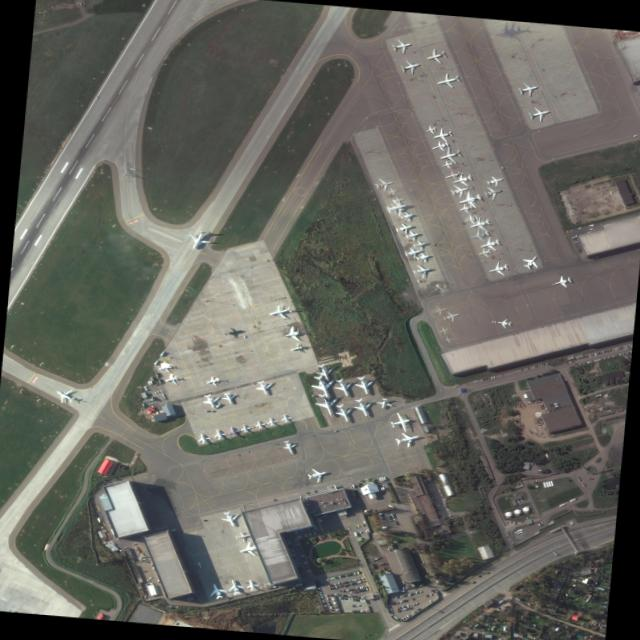large-vehicle: (558, 500, 568, 506), (569, 496, 578, 501), (517, 530, 523, 533), (516, 527, 522, 530)
plane: (312, 390, 343, 418), (182, 225, 214, 252), (307, 371, 339, 398), (387, 409, 416, 432), (454, 188, 483, 210), (393, 428, 423, 448), (352, 373, 377, 396), (332, 401, 357, 424), (436, 144, 463, 165), (351, 395, 375, 418), (331, 375, 356, 397), (384, 196, 411, 216), (434, 70, 462, 89), (519, 250, 544, 271), (52, 384, 77, 405), (423, 45, 449, 65), (266, 301, 293, 320), (313, 361, 337, 382), (398, 56, 424, 75), (527, 103, 552, 122), (390, 35, 415, 54), (219, 508, 242, 528), (252, 377, 276, 396), (410, 261, 435, 279), (467, 225, 492, 243), (467, 214, 492, 232), (200, 391, 223, 410), (486, 259, 510, 277), (478, 234, 502, 252), (448, 181, 472, 199), (450, 170, 474, 188), (516, 79, 540, 97), (206, 580, 228, 599), (373, 174, 396, 192), (305, 465, 328, 483), (236, 539, 259, 557), (481, 183, 504, 201), (225, 576, 246, 595), (431, 126, 454, 143), (281, 324, 302, 342), (219, 389, 240, 405), (551, 273, 573, 288), (223, 324, 244, 339), (116, 159, 135, 175), (280, 438, 299, 454), (442, 167, 462, 182), (430, 138, 450, 153), (441, 308, 462, 322), (485, 173, 506, 187), (430, 302, 450, 316), (385, 201, 404, 215), (403, 245, 423, 258), (394, 221, 414, 234), (195, 430, 212, 444), (289, 340, 307, 353), (375, 396, 393, 409), (163, 372, 180, 385), (476, 245, 493, 258), (234, 529, 251, 542), (457, 201, 474, 214), (463, 212, 480, 225), (156, 360, 172, 373), (225, 424, 241, 437), (415, 250, 432, 262), (204, 374, 221, 386), (412, 238, 428, 250), (404, 228, 420, 240), (399, 209, 415, 221), (211, 427, 227, 439), (391, 193, 406, 205), (497, 316, 511, 328), (245, 578, 259, 590), (440, 158, 454, 169), (386, 185, 399, 196), (424, 123, 437, 134), (438, 324, 451, 334), (238, 422, 251, 432), (265, 415, 278, 425), (279, 412, 292, 422), (253, 418, 265, 428), (444, 334, 453, 342)
small-vehicle: (153, 359, 158, 364), (159, 350, 164, 355), (380, 476, 384, 480), (147, 379, 150, 384), (149, 379, 152, 384), (388, 503, 393, 506), (407, 592, 411, 595), (554, 552, 558, 555), (411, 610, 415, 613), (140, 551, 144, 554), (107, 544, 111, 547), (106, 543, 110, 546), (105, 542, 109, 545), (633, 133, 637, 136), (146, 397, 149, 401), (148, 396, 151, 400), (383, 475, 386, 479), (380, 485, 383, 489), (352, 483, 355, 487), (552, 550, 557, 552), (324, 607, 329, 609), (141, 557, 146, 559), (363, 598, 366, 601), (362, 595, 365, 598), (360, 595, 363, 598), (402, 585, 405, 588), (402, 579, 405, 582), (395, 600, 398, 603), (399, 594, 402, 597), (405, 606, 408, 609), (338, 592, 341, 595), (337, 592, 340, 595), (353, 571, 356, 574), (352, 578, 355, 581), (353, 581, 356, 584), (346, 588, 349, 591), (359, 585, 362, 588), (338, 574, 341, 577), (394, 615, 397, 618), (395, 616, 398, 619), (429, 599, 432, 602), (406, 614, 409, 617), (337, 581, 340, 584), (603, 349, 606, 352), (584, 354, 587, 357), (545, 361, 548, 364), (532, 364, 535, 367), (520, 367, 523, 370), (615, 346, 618, 349), (628, 343, 631, 346), (621, 345, 624, 348), (619, 345, 622, 348), (612, 347, 615, 350), (482, 377, 485, 380), (109, 545, 112, 548), (159, 409, 162, 412), (535, 462, 538, 465), (174, 621, 177, 624), (144, 398, 147, 401), (155, 410, 158, 413), (328, 592, 331, 595), (381, 485, 384, 488), (286, 538, 289, 541), (363, 519, 366, 522), (580, 543, 584, 545), (401, 589, 405, 591), (331, 596, 335, 598), (331, 597, 335, 599), (331, 575, 333, 579), (323, 604, 327, 606), (321, 598, 325, 600), (579, 362, 583, 364), (575, 363, 579, 365), (573, 362, 577, 364), (548, 361, 550, 365), (501, 372, 503, 376), (603, 356, 607, 358), (597, 357, 601, 359), (594, 358, 598, 360), (586, 360, 590, 362), (614, 346, 616, 350), (624, 347, 628, 349), (110, 547, 114, 549), (437, 513, 441, 515), (436, 510, 440, 512), (432, 497, 436, 499), (429, 491, 433, 493), (287, 542, 291, 544), (577, 226, 581, 228), (96, 94, 98, 98), (150, 396, 152, 400), (287, 541, 291, 543), (286, 540, 290, 542), (333, 600, 337, 602), (325, 608, 329, 610), (324, 605, 328, 607), (322, 601, 326, 603), (380, 512, 384, 514), (379, 476, 381, 480), (469, 530, 473, 532), (445, 506, 449, 508), (443, 500, 447, 502), (443, 499, 447, 501), (394, 519, 398, 521), (395, 522, 399, 524), (146, 578, 150, 580), (152, 565, 156, 567), (404, 598, 406, 601), (355, 608, 357, 611), (354, 603, 356, 606), (352, 603, 354, 606), (365, 608, 367, 611), (362, 608, 364, 611), (356, 603, 358, 606), (351, 597, 353, 600), (349, 597, 351, 600), (403, 598, 405, 601), (396, 605, 398, 608), (347, 593, 349, 596), (398, 605, 400, 608), (401, 605, 404, 607), (402, 607, 404, 610), (407, 603, 409, 606), (401, 599, 403, 602), (399, 599, 401, 602), (402, 593, 404, 596), (403, 604, 405, 607), (399, 608, 401, 611), (400, 605, 402, 608), (349, 593, 351, 596), (342, 588, 344, 591), (537, 463, 539, 466), (356, 594, 358, 597), (355, 594, 357, 597), (353, 594, 355, 597), (356, 586, 358, 589), (363, 578, 365, 581), (355, 581, 358, 583), (331, 583, 333, 586), (339, 595, 341, 598), (345, 588, 347, 591), (325, 593, 327, 596), (361, 585, 363, 588), (365, 584, 367, 587), (366, 587, 368, 590), (357, 580, 359, 583), (361, 576, 364, 578), (357, 570, 359, 573), (326, 577, 328, 580), (336, 607, 339, 609), (326, 596, 329, 598), (393, 614, 396, 616), (400, 617, 402, 620), (550, 547, 553, 549), (471, 580, 474, 582), (430, 592, 432, 595), (426, 593, 428, 596), (419, 589, 421, 592), (418, 590, 420, 593), (415, 590, 417, 593), (415, 601, 417, 604), (410, 602, 412, 605), (413, 610, 416, 612), (407, 613, 410, 615), (405, 614, 407, 617), (402, 616, 404, 619), (335, 582, 337, 585), (339, 581, 341, 584), (607, 348, 609, 351), (600, 350, 602, 353), (596, 351, 598, 354), (592, 352, 594, 355), (590, 353, 593, 355), (569, 365, 572, 367), (540, 362, 542, 365), (535, 364, 538, 366), (527, 366, 529, 369), (493, 374, 495, 377), (608, 348, 610, 351), (616, 353, 619, 355), (612, 354, 615, 356), (608, 355, 611, 357), (600, 357, 603, 359), (584, 361, 587, 363), (590, 359, 593, 361), (589, 353, 591, 356), (594, 352, 596, 355), (601, 350, 604, 352), (625, 344, 627, 347), (623, 344, 625, 347), (618, 346, 620, 349), (490, 375, 493, 377), (486, 376, 488, 379), (112, 548, 115, 550), (110, 546, 113, 548), (161, 408, 163, 411), (431, 494, 434, 496), (430, 492, 433, 494), (531, 462, 534, 464), (140, 553, 143, 555), (480, 377, 482, 380), (265, 258, 268, 260), (417, 278, 419, 281), (627, 344, 629, 347), (341, 580, 343, 583), (346, 582, 348, 585), (345, 583, 347, 586), (340, 574, 342, 577), (334, 585, 336, 588), (332, 585, 334, 588), (348, 572, 350, 575), (349, 572, 351, 575), (351, 572, 354, 574), (314, 525, 316, 528), (308, 532, 311, 534), (304, 533, 307, 535), (299, 534, 301, 537), (307, 569, 310, 571), (304, 560, 307, 562), (348, 582, 350, 585), (317, 586, 320, 588), (318, 589, 321, 591), (343, 580, 345, 583), (335, 585, 337, 588), (335, 606, 338, 608), (321, 597, 324, 599), (320, 595, 323, 597), (320, 594, 323, 596), (319, 592, 322, 594), (294, 537, 297, 539), (296, 529, 298, 532), (392, 513, 395, 515), (379, 511, 382, 513), (381, 516, 384, 518), (449, 513, 452, 515), (153, 567, 156, 569), (292, 552, 295, 554), (295, 541, 298, 543), (153, 568, 156, 570), (393, 517, 396, 519), (305, 491, 308, 493), (357, 524, 359, 527), (367, 528, 369, 531), (365, 528, 367, 531), (359, 530, 362, 532), (403, 594, 405, 596), (352, 609, 354, 611), (354, 609, 356, 611), (358, 609, 360, 611), (360, 609, 362, 611), (360, 598, 362, 600), (404, 607, 406, 609), (397, 600, 399, 602), (388, 607, 392, 608), (400, 608, 402, 610), (397, 609, 399, 611), (341, 593, 343, 595), (336, 592, 338, 594), (358, 586, 360, 588), (358, 577, 360, 579), (349, 579, 351, 581), (350, 582, 352, 584), (329, 584, 331, 586), (333, 583, 335, 585), (334, 583, 336, 585), (357, 589, 359, 591), (363, 585, 365, 587), (359, 580, 361, 582), (354, 578, 356, 580), (333, 576, 335, 578), (330, 577, 332, 579), (334, 592, 336, 594), (321, 600, 325, 601), (424, 594, 426, 596), (414, 602, 416, 604), (412, 602, 414, 604), (598, 351, 600, 353), (587, 354, 589, 356), (543, 362, 545, 364), (605, 349, 607, 351), (622, 352, 626, 353), (610, 348, 612, 350), (488, 376, 490, 378), (314, 489, 316, 491), (438, 515, 442, 516), (437, 512, 441, 513), (530, 462, 532, 464), (306, 568, 310, 569), (346, 573, 348, 575), (351, 579, 353, 581), (350, 579, 352, 581), (318, 519, 322, 520), (314, 531, 316, 533), (297, 535, 299, 537), (300, 554, 304, 555), (337, 575, 339, 577), (333, 602, 337, 603), (330, 605, 332, 607), (328, 600, 330, 602), (322, 603, 326, 604), (318, 591, 322, 592), (290, 550, 294, 551), (392, 516, 396, 517), (392, 515, 396, 516), (446, 508, 450, 509), (444, 504, 448, 505), (444, 502, 448, 503), (390, 512, 394, 513), (296, 564, 300, 565), (387, 604, 390, 605), (405, 593, 406, 596), (364, 608, 365, 611), (362, 598, 363, 601), (390, 611, 393, 612), (389, 608, 392, 609), (408, 606, 409, 609), (572, 365, 575, 366), (433, 499, 436, 500), (304, 562, 307, 563), (619, 353, 622, 354), (339, 589, 342, 590), (318, 517, 321, 518), (628, 347, 631, 348), (336, 609, 339, 610), (334, 605, 337, 606), (333, 599, 336, 600), (331, 595, 334, 596), (326, 610, 329, 611), (292, 554, 295, 555), (445, 505, 448, 506), (443, 498, 446, 499), (627, 351, 630, 352), (294, 558, 297, 559), (296, 562, 299, 563), (295, 543, 298, 544), (149, 576, 152, 577), (151, 563, 154, 564), (143, 570, 146, 571), (357, 609, 358, 611), (358, 603, 359, 605), (359, 595, 360, 597), (351, 594, 352, 596)
